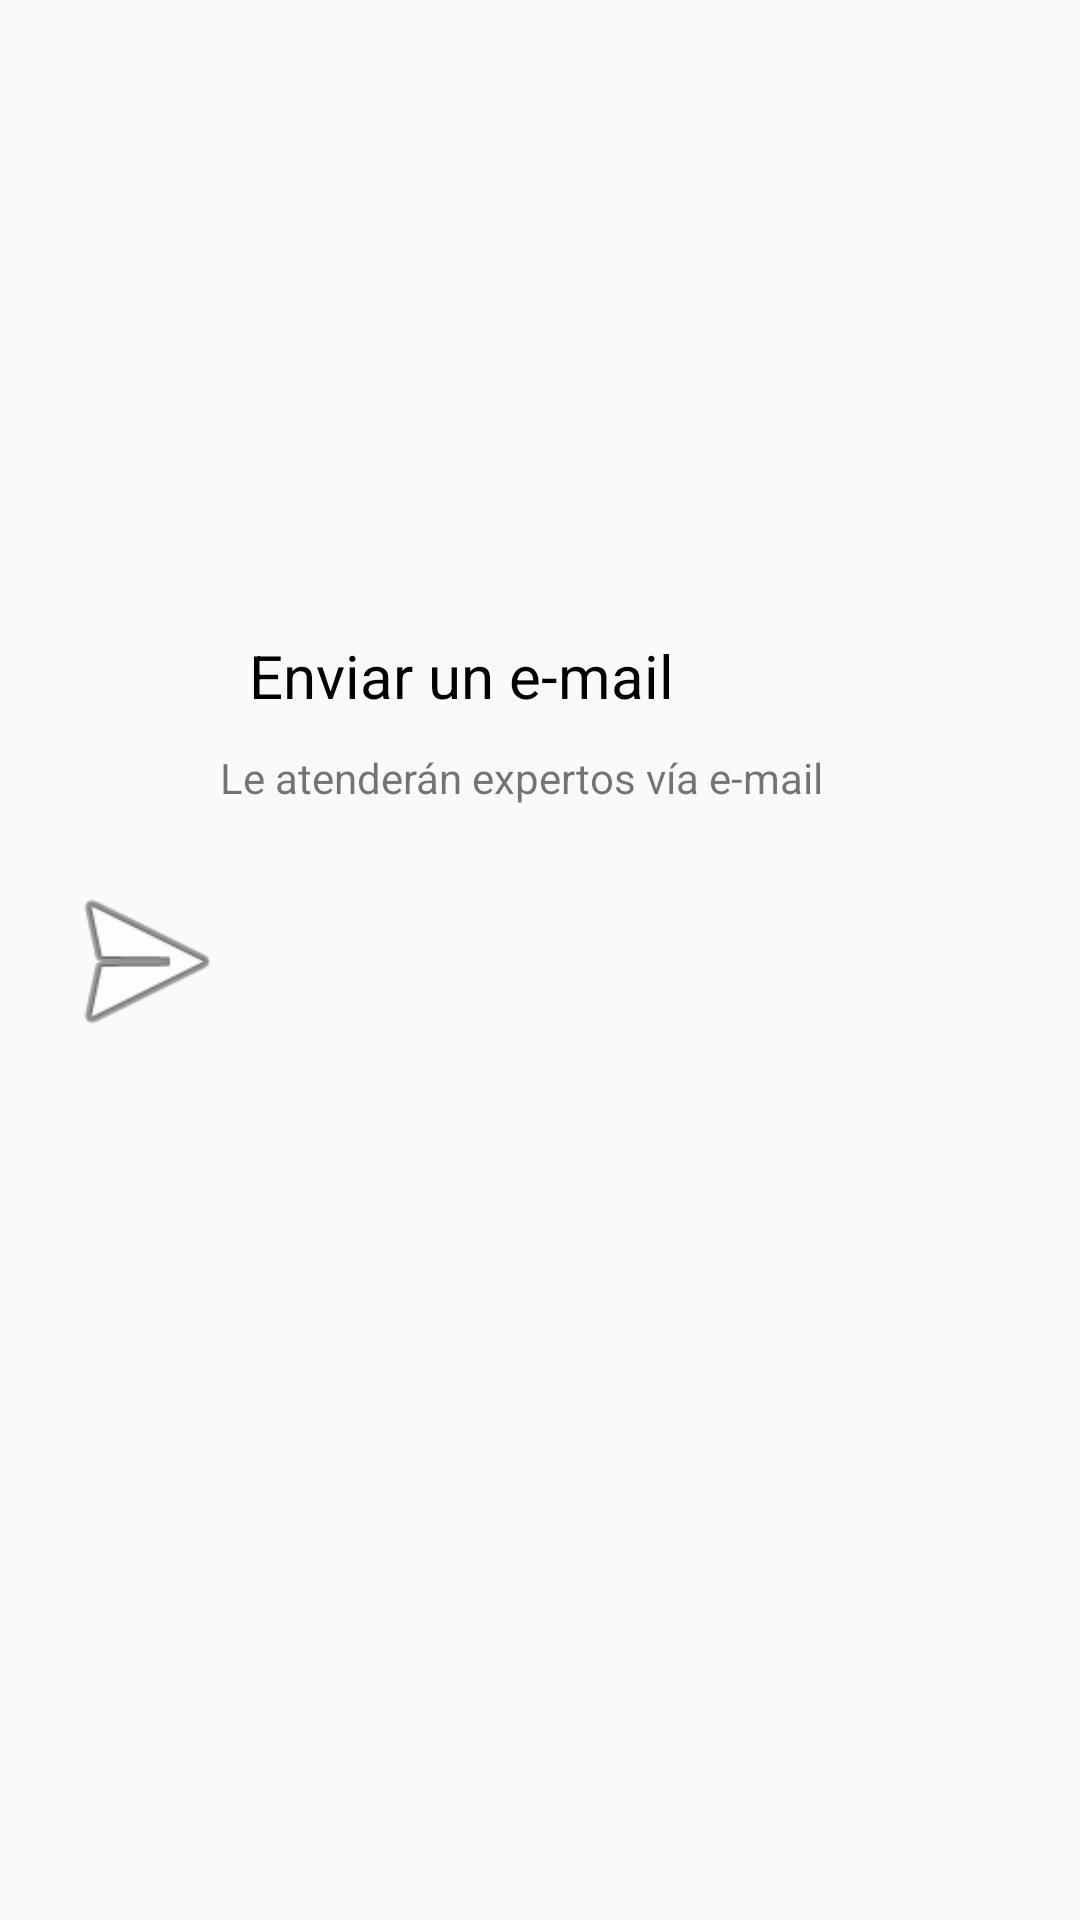

Named icons in this screenshot (1080 × 1920) and their centers, (x,y):
send: (147,961)
